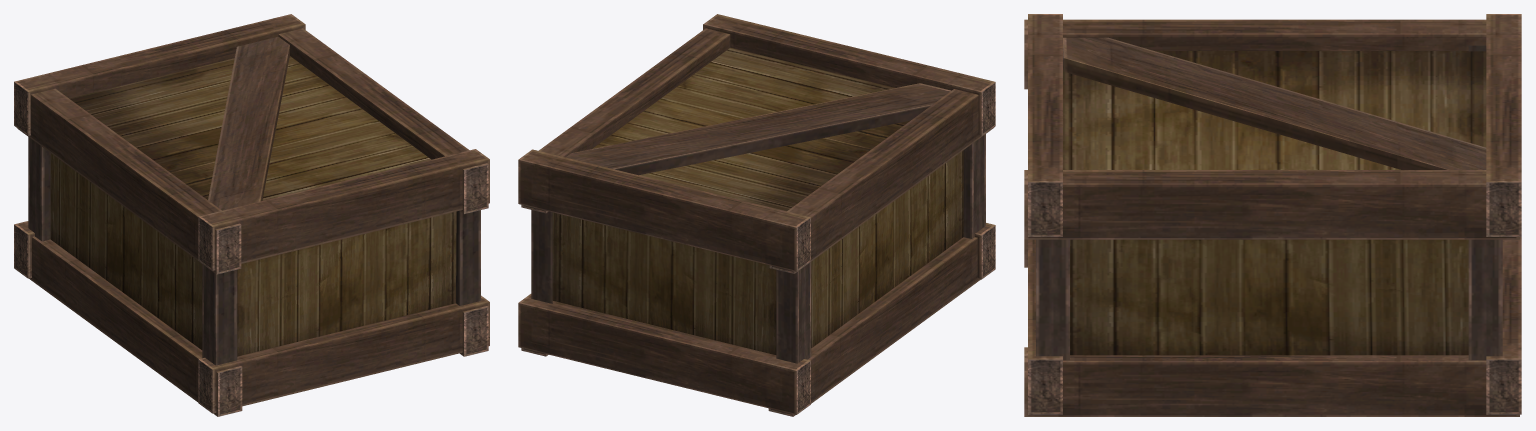
Rendered from cart_shopbox00.glb.
3 renders of one model, left to right at view 1: azimuth 30°, elevation 25°; view 2: azimuth 150°, elevation 25°; view 3: azimuth 270°, elevation 25°, orthographic. The views are drawn at different scales.
Parts seen in each view (by area): view 1: cart_shopbox00; view 2: cart_shopbox00; view 3: cart_shopbox00.
Part boxes in pixels (x1=…): cart_shopbox00: x1=14, y1=14, x2=489, y2=416; cart_shopbox00: x1=518, y1=14, x2=995, y2=416; cart_shopbox00: x1=1024, y1=14, x2=1521, y2=416.
Size of the model in its own units: 1.49 by 0.9772 by 1.86.
Materials: 1 (1 with a texture image).
